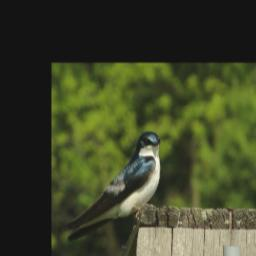Swallow: (62, 130, 162, 242)
